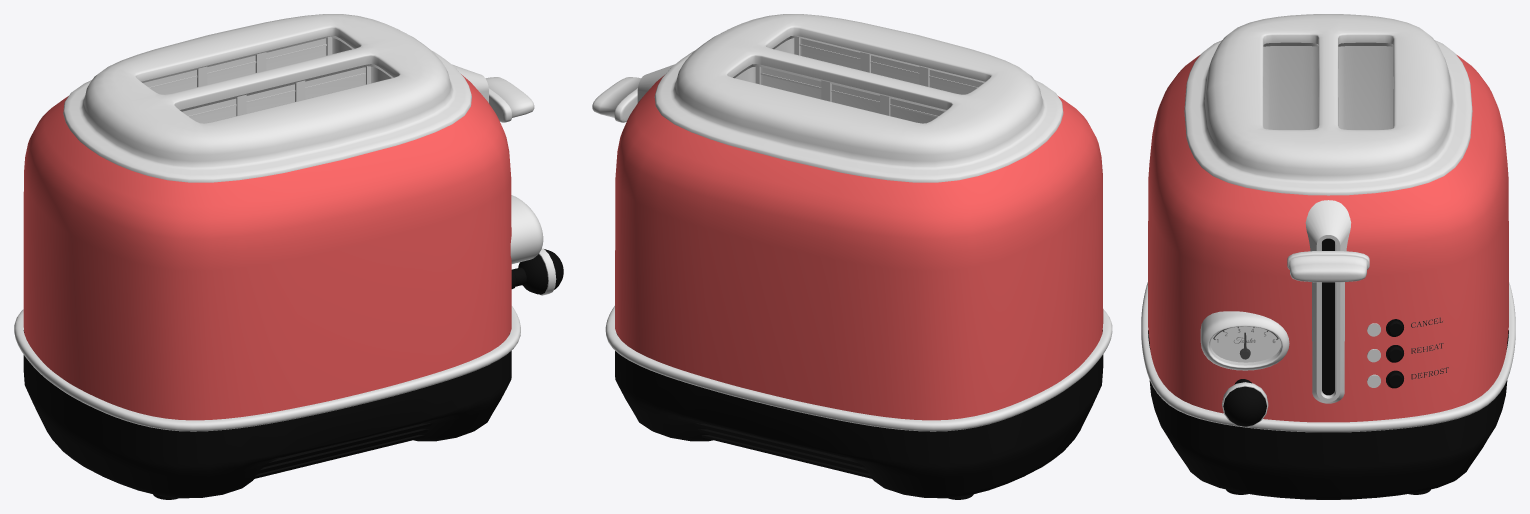
Rendered from low_poly_toaster_red.glb.
3 renders of one model, left to right at view 1: azimuth 30°, elevation 25°; view 2: azimuth 150°, elevation 25°; view 3: azimuth 270°, elevation 25°, orthographic. The views are drawn at different scales.
Visible parts, largest first — view 1: Cube, Cube.001, Cube.013, Sphere, Cube.010, Cube.008; view 2: Cube, Cube.001, Cube.013, Cube.008; view 3: Cube, Cylinder, Cube.001, Cube.010, Cube.008, Cube.012, Plane.001, Sphere, Cylinder.002.
Part boxes in pixels (box(x1,y1,x2,y2)): Cube: box(23, 14, 511, 498); Cube.001: box(14, 306, 520, 431); Cube.013: box(253, 423, 432, 479); Sphere: box(511, 248, 563, 295); Cube.010: box(510, 195, 543, 263); Cube.008: box(485, 77, 534, 122); Cube: box(615, 14, 1103, 498); Cube.001: box(605, 306, 1112, 431); Cube.013: box(694, 423, 873, 479); Cube.008: box(592, 77, 640, 122); Cube: box(1148, 14, 1508, 499); Cylinder: box(1305, 200, 1351, 403); Cube.001: box(1141, 282, 1515, 432); Cube.010: box(1200, 311, 1289, 370); Cube.008: box(1287, 251, 1369, 282); Cube.012: box(1209, 326, 1281, 365); Plane.001: box(1210, 326, 1281, 362); Sphere: box(1222, 379, 1268, 426); Cylinder.002: box(1367, 319, 1403, 388).
Size of the model in its own units: 3.87 by 2.79 by 2.79.
Materials: 6 (1 with a texture image).
